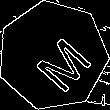M_NW: (18, 22, 87, 90)
